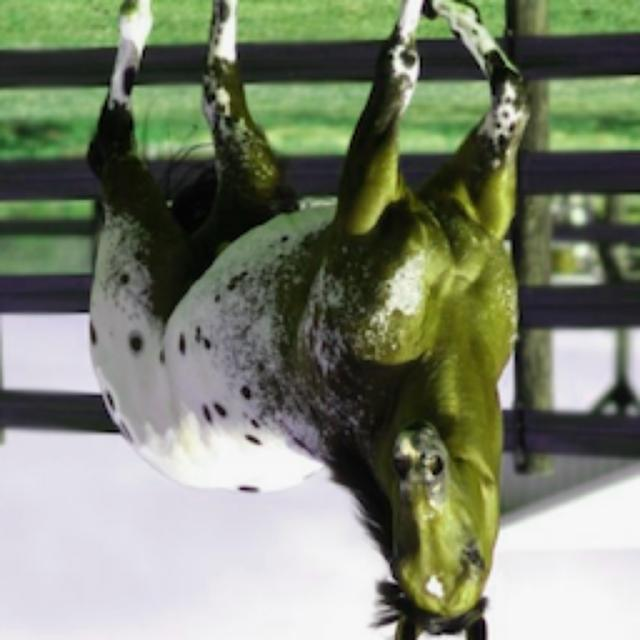Horse: (75, 2, 553, 640)
